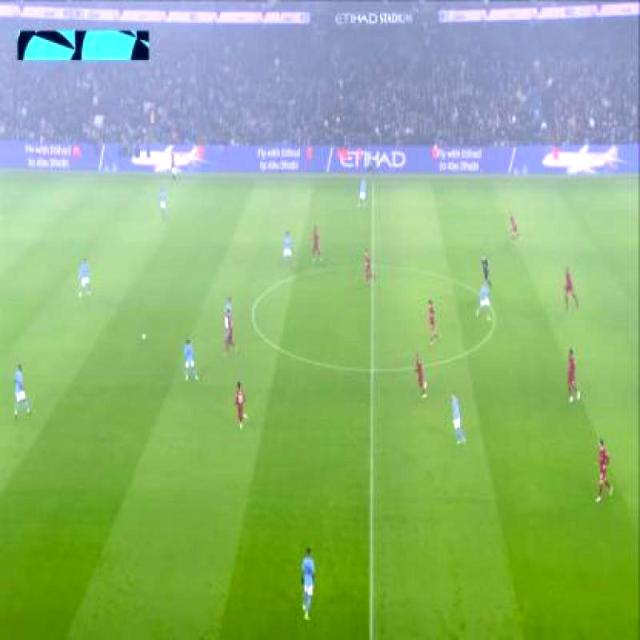halfcircle_bottom: (364, 355, 382, 385)
halfcircle_top: (369, 258, 377, 272)
midline_top_intersection: (368, 176, 378, 190)
